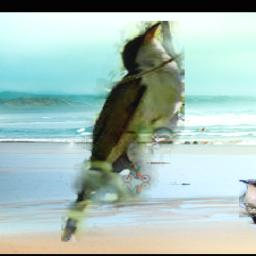Cuckoo: (60, 21, 184, 242), (238, 179, 256, 253)
